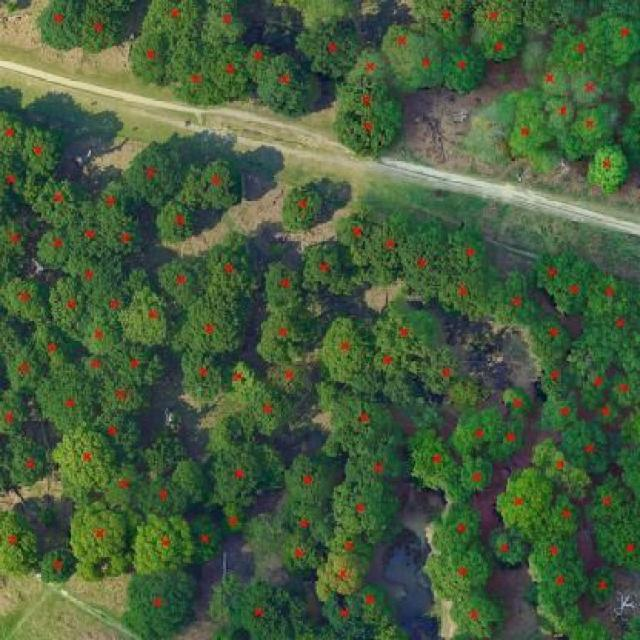tree: (204, 569, 339, 640), (111, 558, 211, 640), (202, 425, 289, 514), (321, 473, 414, 550), (168, 281, 255, 362), (491, 460, 562, 552), (126, 505, 203, 587), (323, 384, 402, 462), (314, 303, 380, 392), (406, 200, 457, 315), (63, 492, 142, 566), (527, 541, 591, 632), (115, 135, 191, 211), (48, 416, 120, 496), (291, 12, 369, 85), (364, 296, 448, 362), (32, 359, 103, 436), (221, 374, 302, 441), (530, 428, 598, 507), (326, 78, 420, 135), (115, 277, 180, 358), (252, 48, 321, 124), (251, 301, 326, 370), (305, 546, 392, 605), (580, 492, 640, 577), (554, 409, 621, 485), (205, 228, 266, 309), (442, 398, 513, 465), (23, 170, 97, 233), (403, 422, 466, 496), (329, 106, 406, 166), (415, 544, 496, 601), (549, 248, 611, 322), (543, 16, 615, 79), (428, 495, 491, 567), (165, 50, 236, 113), (578, 297, 640, 369), (486, 262, 546, 335), (580, 259, 640, 332), (119, 28, 184, 95), (201, 38, 258, 114), (59, 245, 130, 306), (295, 233, 358, 301), (500, 93, 562, 162), (518, 525, 594, 580), (436, 587, 514, 640), (405, 0, 481, 54), (12, 117, 71, 186), (369, 205, 415, 293), (174, 340, 232, 409), (0, 502, 49, 581), (187, 152, 248, 215), (339, 437, 410, 491), (89, 405, 149, 468), (566, 95, 625, 159), (276, 172, 330, 240), (279, 449, 333, 517), (147, 252, 208, 312), (0, 269, 57, 332), (329, 200, 377, 274), (69, 0, 128, 60), (354, 578, 411, 640), (581, 9, 640, 68), (107, 339, 171, 393), (30, 0, 93, 54), (438, 40, 492, 103), (444, 216, 495, 282), (0, 432, 57, 491), (438, 265, 493, 326), (581, 136, 634, 199), (397, 34, 449, 98), (272, 525, 331, 581), (58, 209, 125, 258), (0, 338, 51, 402), (527, 386, 587, 440), (68, 304, 123, 362), (143, 0, 208, 49), (315, 586, 373, 640), (195, 0, 256, 51), (131, 474, 197, 521), (261, 349, 318, 403), (416, 343, 470, 400), (46, 268, 89, 339), (28, 219, 84, 273), (583, 473, 634, 532), (524, 307, 573, 368), (28, 323, 83, 377), (256, 254, 307, 312), (611, 406, 640, 508), (182, 512, 230, 573), (575, 345, 615, 418), (528, 249, 580, 305), (517, 0, 599, 35), (528, 351, 581, 405), (98, 370, 153, 422), (0, 211, 38, 286), (282, 0, 363, 35), (319, 523, 386, 565), (465, 27, 530, 70), (344, 41, 398, 92), (96, 457, 147, 511), (361, 338, 415, 389), (536, 85, 579, 148), (372, 13, 423, 65), (84, 176, 138, 225), (102, 213, 156, 262), (172, 454, 216, 514), (278, 499, 333, 547), (482, 409, 529, 465), (542, 488, 589, 544), (223, 353, 271, 405), (485, 522, 531, 576), (611, 97, 640, 180), (583, 556, 622, 616), (566, 63, 611, 114), (34, 542, 81, 587), (529, 62, 577, 106), (244, 35, 279, 95), (465, 0, 525, 35), (237, 509, 283, 554), (90, 273, 133, 321), (0, 382, 35, 440), (498, 382, 537, 433), (446, 376, 499, 413), (152, 419, 189, 470), (0, 105, 32, 163), (0, 152, 32, 210), (211, 497, 252, 541), (453, 458, 498, 498), (74, 345, 118, 384), (604, 366, 640, 413), (584, 395, 624, 435), (559, 614, 613, 640), (99, 550, 141, 579), (71, 558, 104, 589), (618, 78, 640, 114), (620, 603, 640, 640)
